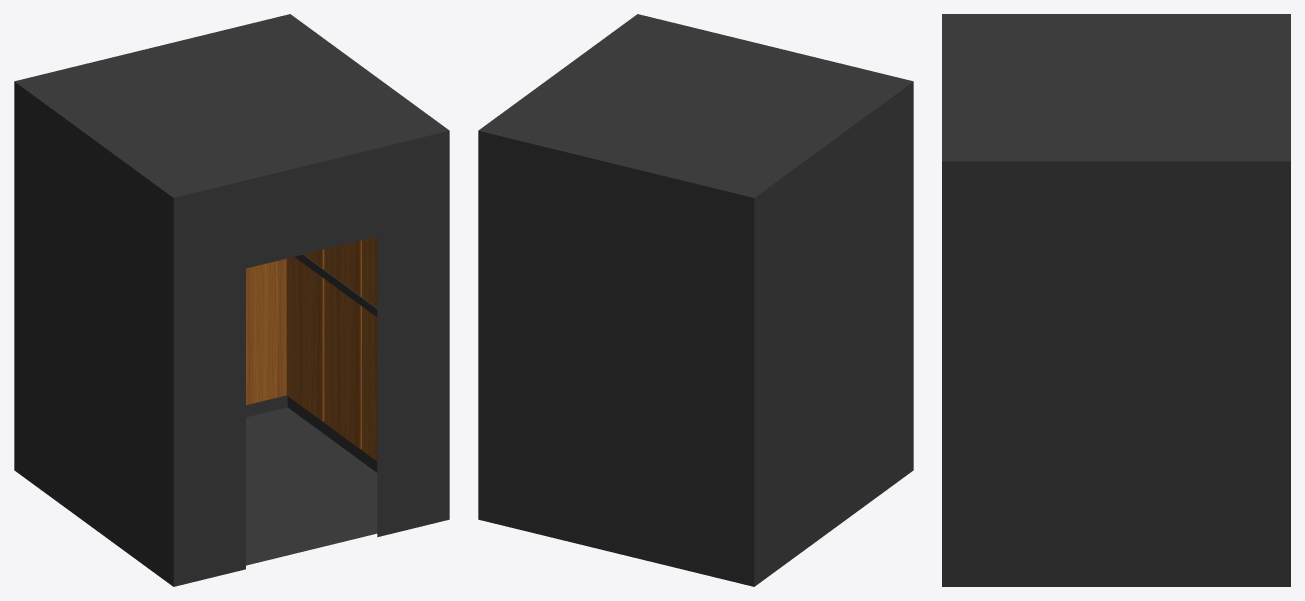
Rendered from DuntonTowerElevator02.glb.
3 views of the same model, side by side, from view 1: azimuth 30°, elevation 25°; view 2: azimuth 150°, elevation 25°; view 3: azimuth 270°, elevation 25° (orthographic). The views are drawn at different scales.
Parts seen in each view (by area): view 1: DuntonTowerElevator02; view 2: DuntonTowerElevator02; view 3: DuntonTowerElevator02.
Boxes of the visible parts, x1=… form: DuntonTowerElevator02: x1=14, y1=14, x2=449, y2=586; DuntonTowerElevator02: x1=478, y1=14, x2=913, y2=586; DuntonTowerElevator02: x1=942, y1=14, x2=1290, y2=586.
Size of the model in its own units: 2.13 by 2.87 by 2.13.
4 materials, 4 textured.
